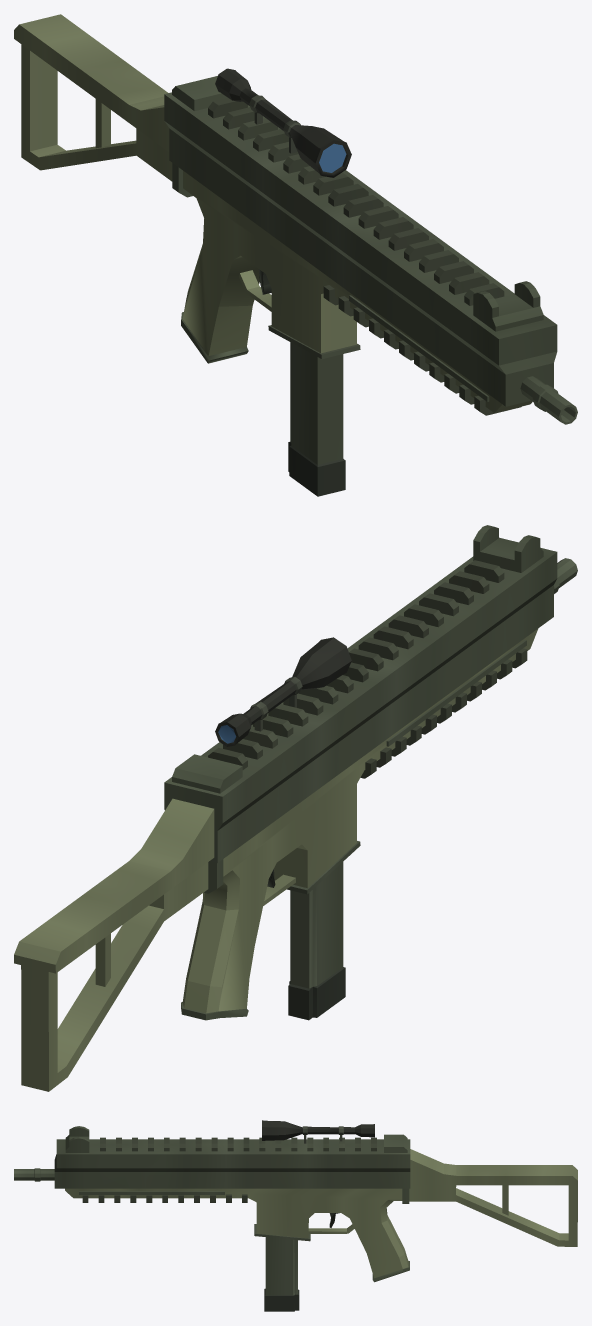
3 renders of one model, top to bottom at view 1: azimuth 30°, elevation 25°; view 2: azimuth 150°, elevation 25°; view 3: azimuth 270°, elevation 25°, orthographic. The views are drawn at different scales.
Parts seen in each view (by area): view 1: mk9; view 2: mk9; view 3: mk9.
Boxes of the visible parts, x1,y1,x2,y2 form: mk9: (14,14,577,496); mk9: (14,525,577,1091); mk9: (14,1120,577,1311).
Size of the model in its own units: 0.0393 by 0.2275 by 0.62.
1 material, 1 textured.
